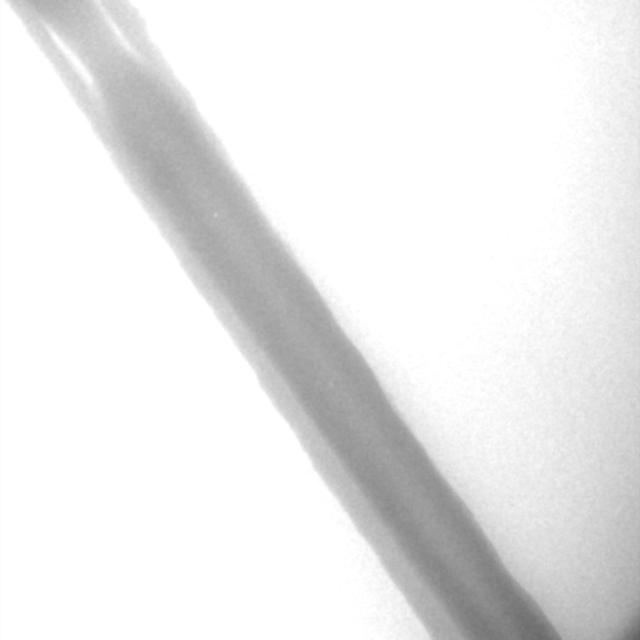unfused: (39, 2, 145, 95)
